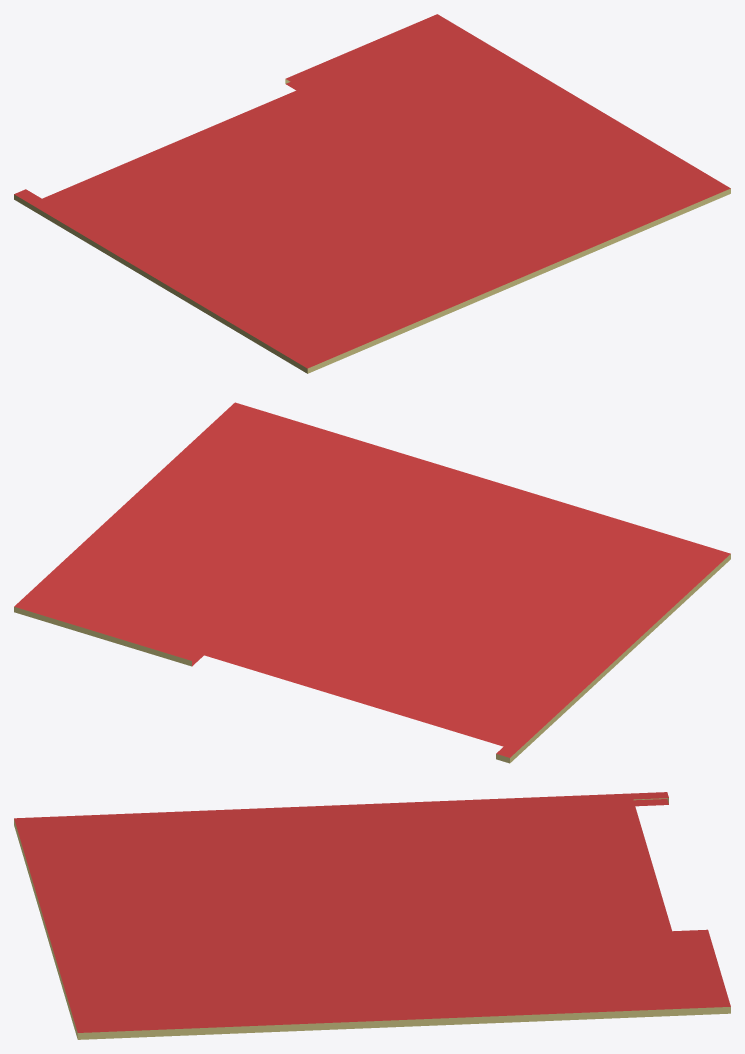
3 views of the same model, one above another, from view 1: azimuth 30°, elevation 25°; view 2: azimuth 150°, elevation 25°; view 3: azimuth 270°, elevation 25° (orthographic). The views are drawn at different scales.
Bounding box in the file's own units: 9.65 × 9.45 × 1.1.
